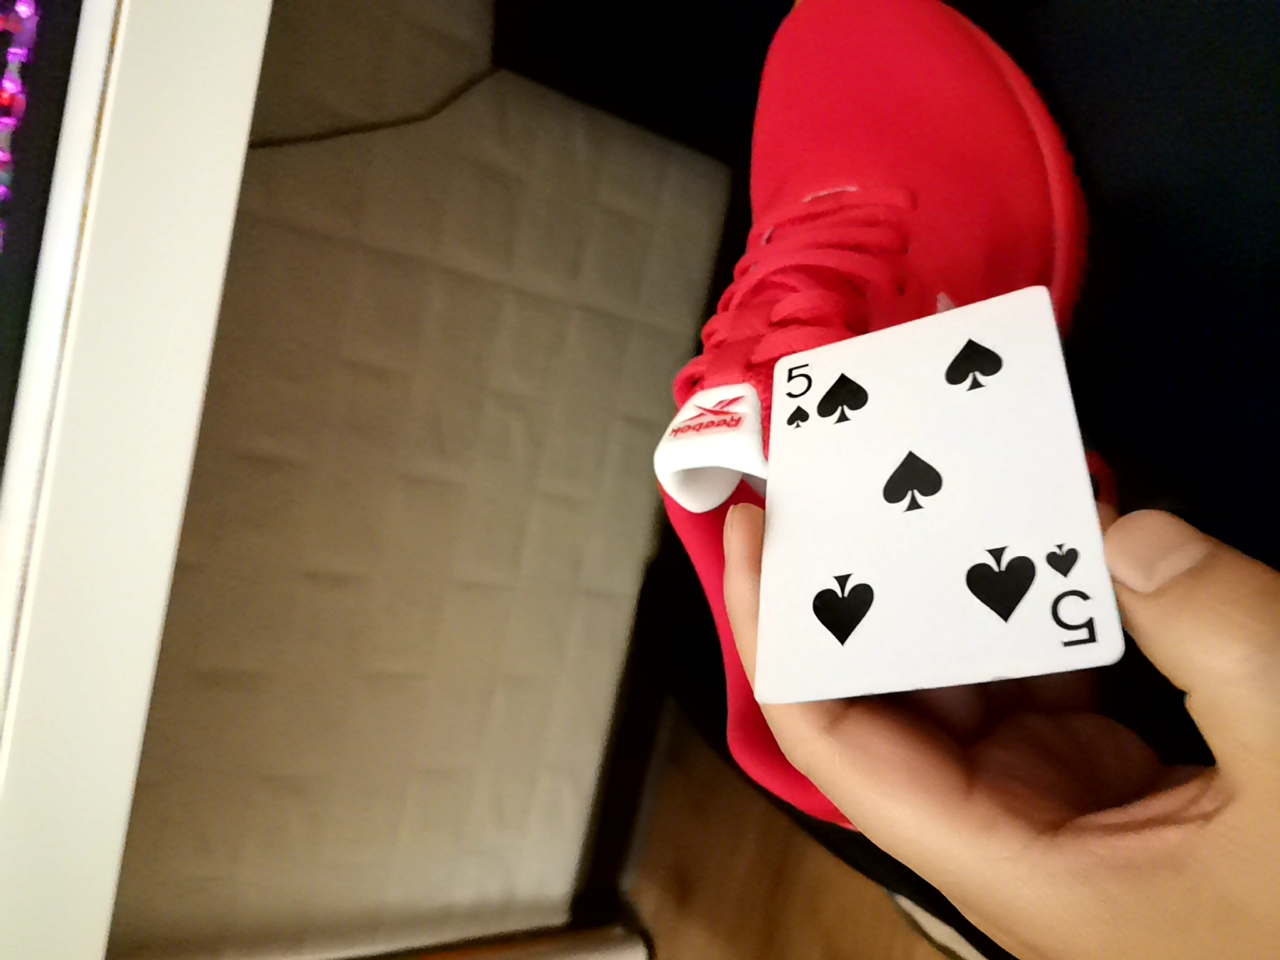ht 5: (696, 295, 1105, 725)
